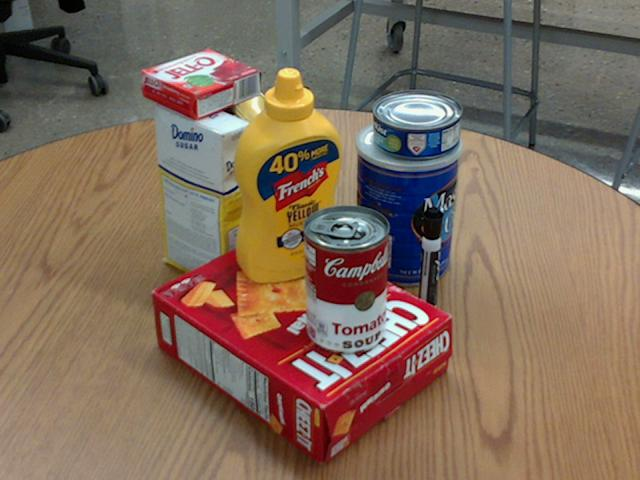cracker_box: (154, 225, 452, 463)
gelatin_box: (142, 49, 261, 119)
large_marker: (416, 207, 442, 323)
master_chef_can: (353, 116, 463, 286)
mug: (202, 150, 291, 253)
mustard_bottle: (233, 67, 341, 282)
potted_meat_can: (183, 87, 305, 210)
sugar_box: (154, 95, 251, 293)
tomato_soup_can: (303, 204, 390, 353)
tuna_fish_can: (373, 90, 463, 158)
